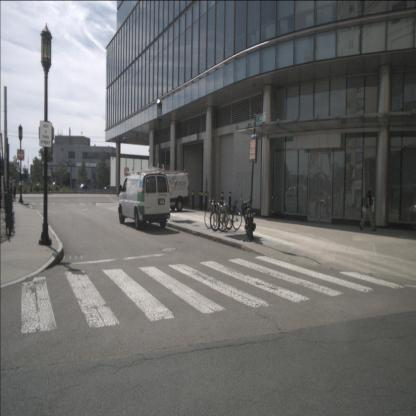human-pedestrian-adult: (359, 184, 377, 232), (12, 180, 17, 202), (9, 176, 13, 201)
vehicle-car: (118, 171, 170, 230), (148, 171, 190, 211), (282, 185, 310, 214), (361, 197, 385, 221), (50, 182, 60, 190), (79, 183, 87, 190), (19, 180, 24, 188)
vehicle-motorcycle: (241, 196, 256, 240)
